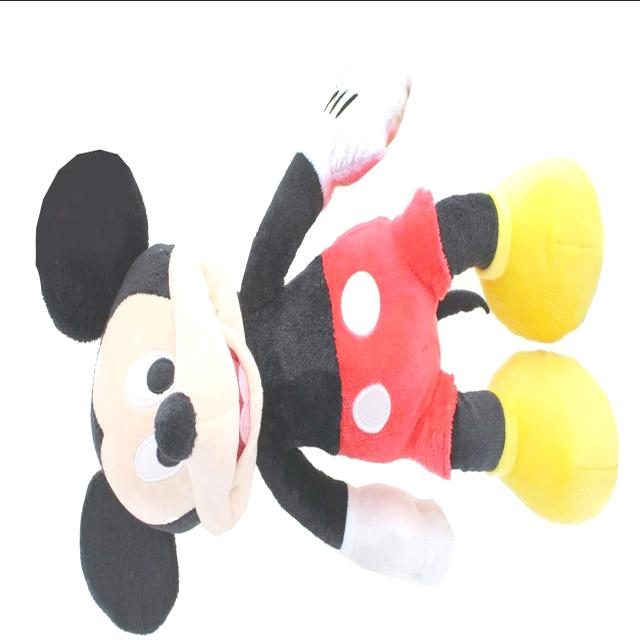mickey: (37, 67, 617, 632)
